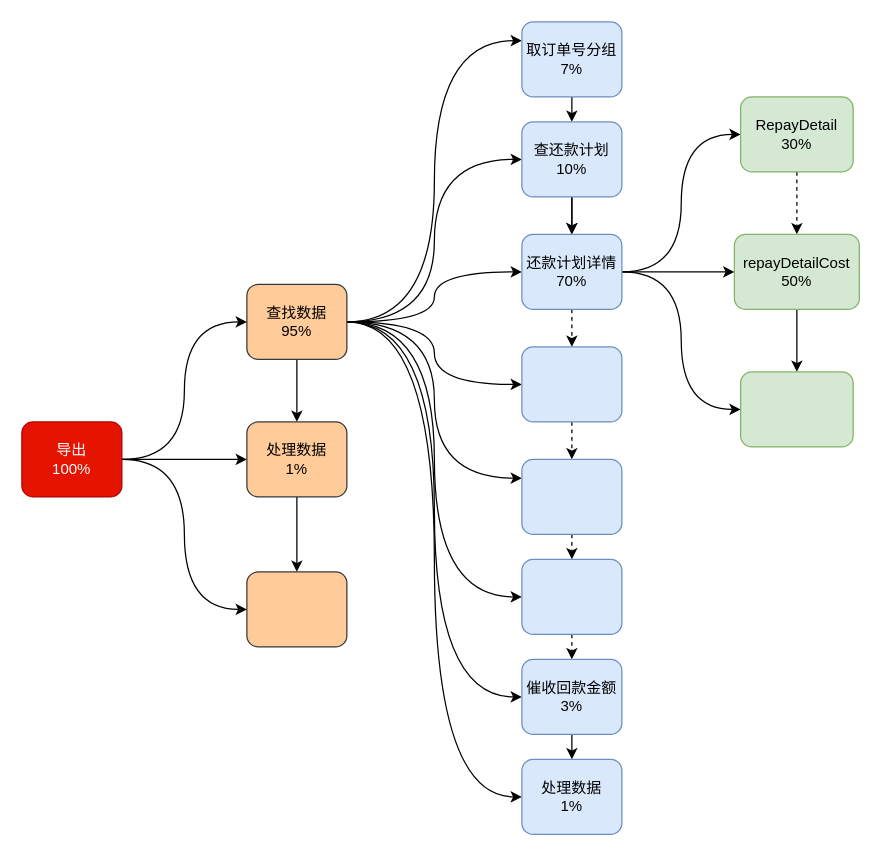
The diagram is 881 pixels wide and 856 high, and some of its shapes have lost their labels. The shapes that lost their labels are listed below. From the top down, each one's box as (x1, y1, x2, y2) in pixels, then its label:
(521, 346, 622, 422): 放款日期 3%
(739, 371, 853, 447): 处理数据 20%
(521, 458, 622, 534): 年利率 3%
(246, 571, 347, 647): 导出数据 4%
(521, 558, 622, 634): 减免金额 3%
